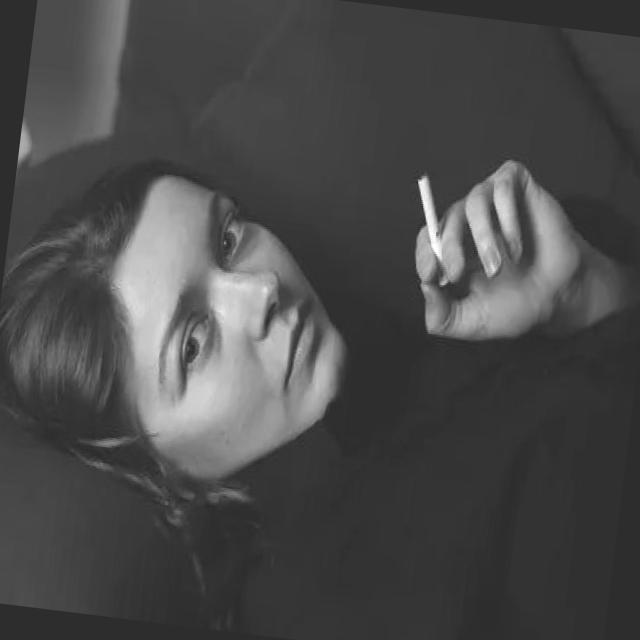cigarette: (398, 162, 465, 292)
